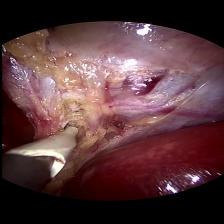Hook: (8, 116, 90, 182)
